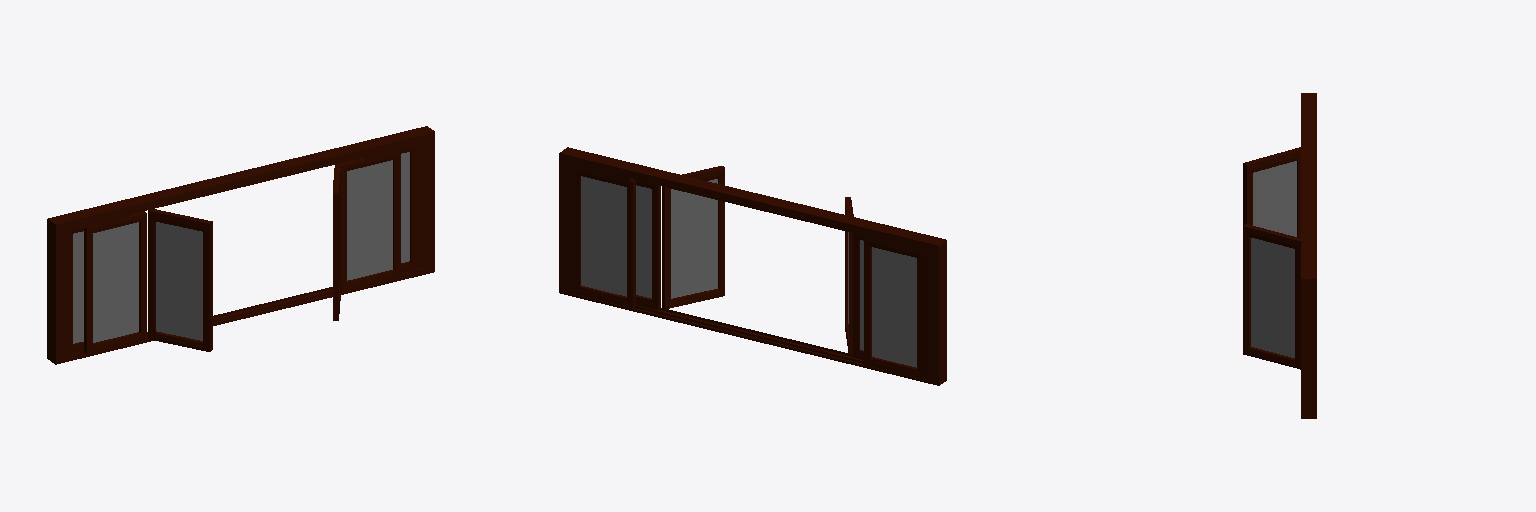
Rendered from sixDoorFrenchStyle.obj.
The picture shows the model from 3 angles: view 1: azimuth 30°, elevation 25°; view 2: azimuth 150°, elevation 25°; view 3: azimuth 270°, elevation 25°; orthographic projection.
Parts seen in each view (by area): view 1: Cube_6, sweethome3d_window_pane_2, sweethome3d_window_pane_3, sweethome3d_window_pane.003, Cube_1, Cube_5.002, Cube_4.003, sweethome3d_window_pane_4, Cube.001, Cube_3.001, sweethome3d_window_pane_5; view 2: Cube_6, sweethome3d_window_pane_5, sweethome3d_window_pane_4, sweethome3d_window_pane_1.001, Cube_3.001, Cube.001, Cube_2, sweethome3d_window_pane.003, Cube_4.003, Cube_1, Cube_5.002; view 3: Cube_6, sweethome3d_window_pane_1.001, sweethome3d_window_pane_2, Cube.001, Cube_1.
Boxes of the visible parts, box(x1,y1,x2,y2) form: Cube_6: box(47, 126, 434, 364); sweethome3d_window_pane_2: box(156, 222, 202, 340); sweethome3d_window_pane_3: box(93, 222, 138, 342); sweethome3d_window_pane.003: box(347, 160, 392, 280); Cube_1: box(148, 209, 212, 351); Cube_5.002: box(84, 211, 146, 353); Cube_4.003: box(340, 151, 400, 291); sweethome3d_window_pane_4: box(73, 231, 83, 343); Cube.001: box(333, 164, 340, 320); Cube_3.001: box(401, 147, 417, 273); sweethome3d_window_pane_5: box(401, 152, 409, 262); Cube_6: box(559, 147, 946, 385); sweethome3d_window_pane_5: box(581, 176, 626, 296); sweethome3d_window_pane_4: box(872, 247, 916, 367); sweethome3d_window_pane_1.001: box(671, 179, 717, 298); Cube_3.001: box(573, 167, 635, 307); Cube.001: box(662, 166, 724, 309); Cube_2: box(864, 238, 922, 378); sweethome3d_window_pane.003: box(636, 185, 651, 298); Cube_4.003: box(636, 180, 660, 309); Cube_1: box(845, 197, 853, 354); Cube_5.002: box(853, 233, 864, 359); Cube_6: box(1301, 93, 1316, 418); sweethome3d_window_pane_1.001: box(1251, 238, 1294, 357); sweethome3d_window_pane_2: box(1253, 161, 1296, 236); Cube.001: box(1243, 224, 1300, 369); Cube_1: box(1243, 147, 1300, 237).
Size of the model in its own units: 12.72 by 4.49 by 2.17.